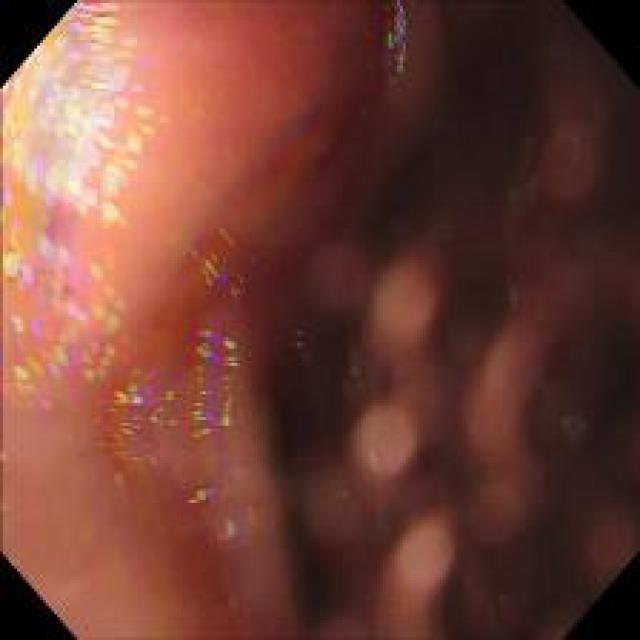blur: (36, 28, 625, 616)
color misalignment: (20, 5, 152, 206), (189, 254, 264, 549), (5, 224, 120, 395), (89, 274, 169, 498), (366, 2, 420, 82), (5, 390, 108, 421), (292, 328, 315, 364), (1, 440, 9, 531)
